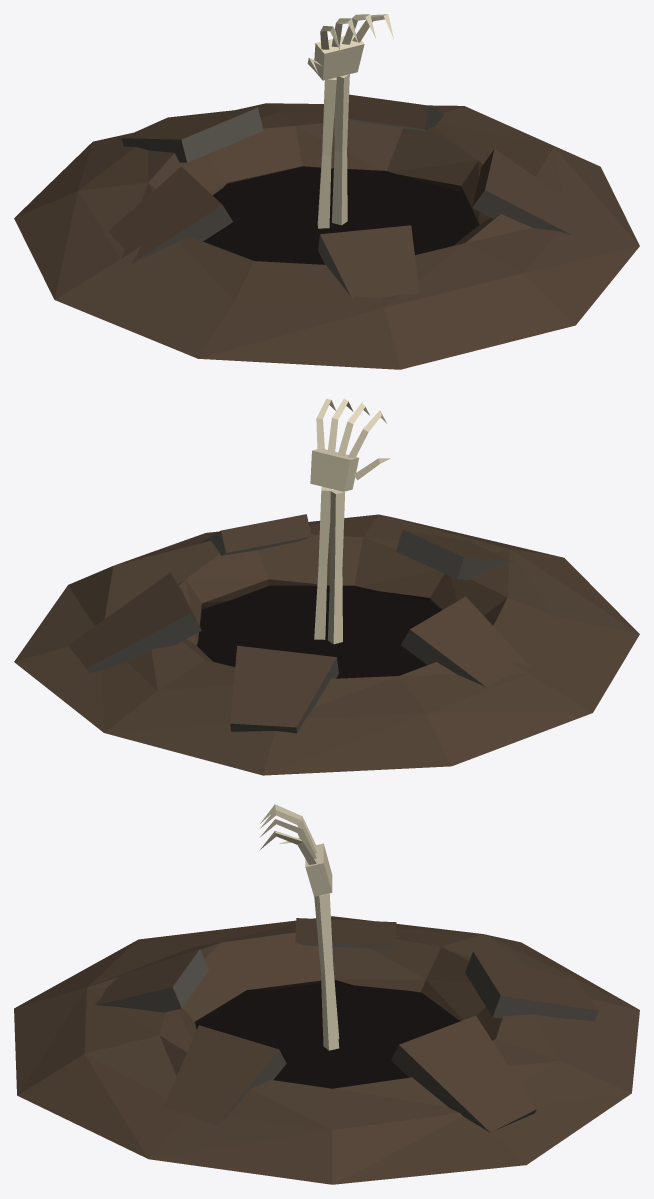
Rendered from Undead_Grabriss.fbx.
3 renders of one model, top to bottom at view 1: azimuth 30°, elevation 25°; view 2: azimuth 150°, elevation 25°; view 3: azimuth 270°, elevation 25°, orthographic. The views are drawn at different scales.
Parts seen in each view (by area): view 1: Rift_Ground, Rift_Hand; view 2: Rift_Ground, Rift_Hand; view 3: Rift_Ground, Rift_Hand.
Boxes of the visible parts, left/top/right/bottom form: Rift_Ground: left=14, top=94, right=639, bottom=369; Rift_Hand: left=307, top=14, right=393, bottom=228; Rift_Ground: left=14, top=514, right=639, bottom=775; Rift_Hand: left=310, top=398, right=390, bottom=644; Rift_Ground: left=14, top=916, right=639, bottom=1184; Rift_Hand: left=259, top=804, right=339, bottom=1050.
Size of the model in its own units: 1.17 by 0.5079 by 1.16.
